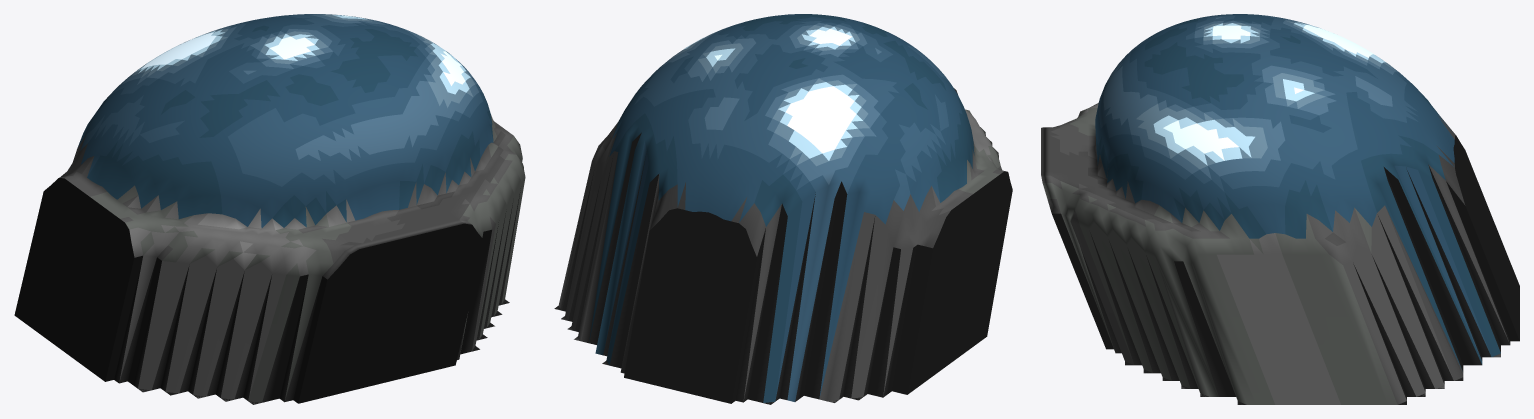
Rendered from crater_dome_245.glb.
The picture shows the model from 3 angles, left to right: view 1: azimuth 30°, elevation 25°; view 2: azimuth 150°, elevation 25°; view 3: azimuth 270°, elevation 25°; orthographic projection. The views are drawn at different scales.
Parts seen in each view (by area): view 1: crater_dome_245; view 2: crater_dome_245; view 3: crater_dome_245.
Boxes of the visible parts, box(x1,y1,x2,y2) form: crater_dome_245: box(14, 14, 525, 404); crater_dome_245: box(554, 14, 1012, 404); crater_dome_245: box(1041, 14, 1519, 404).
Size of the model in its own units: 23 by 16.1 by 25.46.
